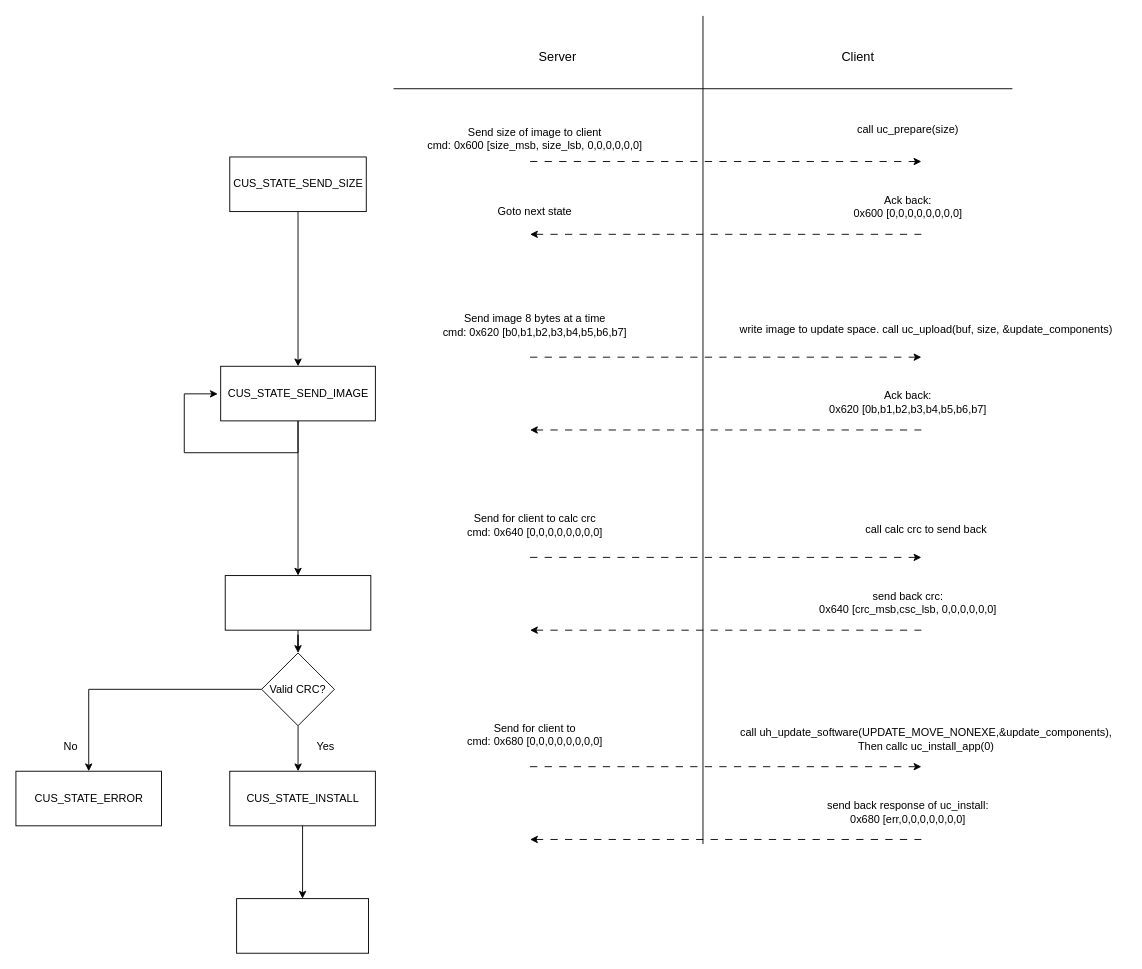
The diagram is 1142 pixels wide and 969 high, and some of its shapes have lost their labels. The centre of each missing label's shape, as x and y in pixels:
"CUS_STATE_CALC_CRC" belongs at point 297,602.
"CUS_STATE_SUCCESS" belongs at point 302,925.
